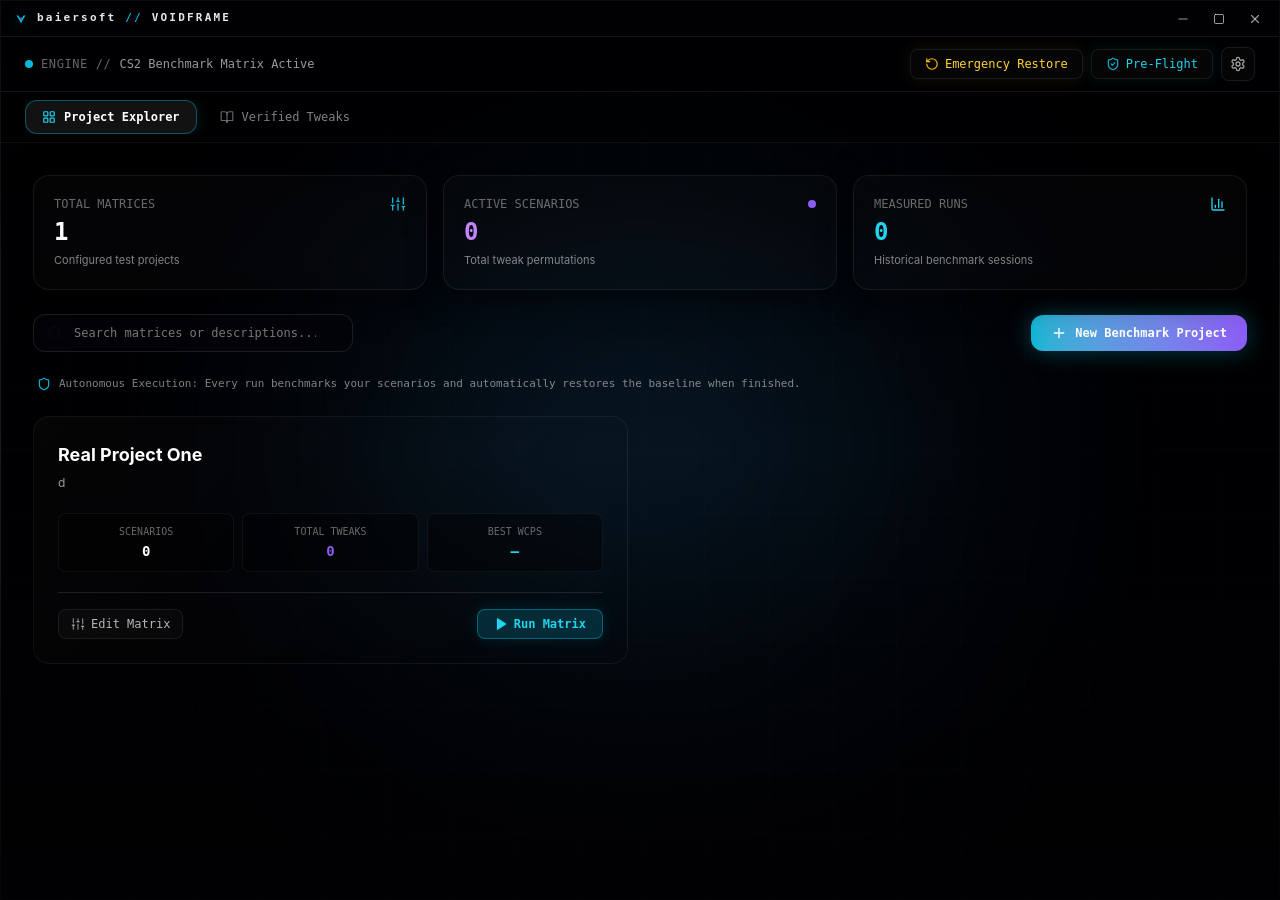
Test case: App run-lifecycle state survives LiveMonitor being unmounted (tab switch) › processes a RunFailed delivered while LiveMonitor is unmounted: isRunInProgress unblocks immediately, and the reason is not lost -- it's shown when the user ret
Expected: the heading "Real Project One" is shown, [58,441,202,469]
Click the button "Run Matrix".
click(540, 624)  # box [477,608,603,638]
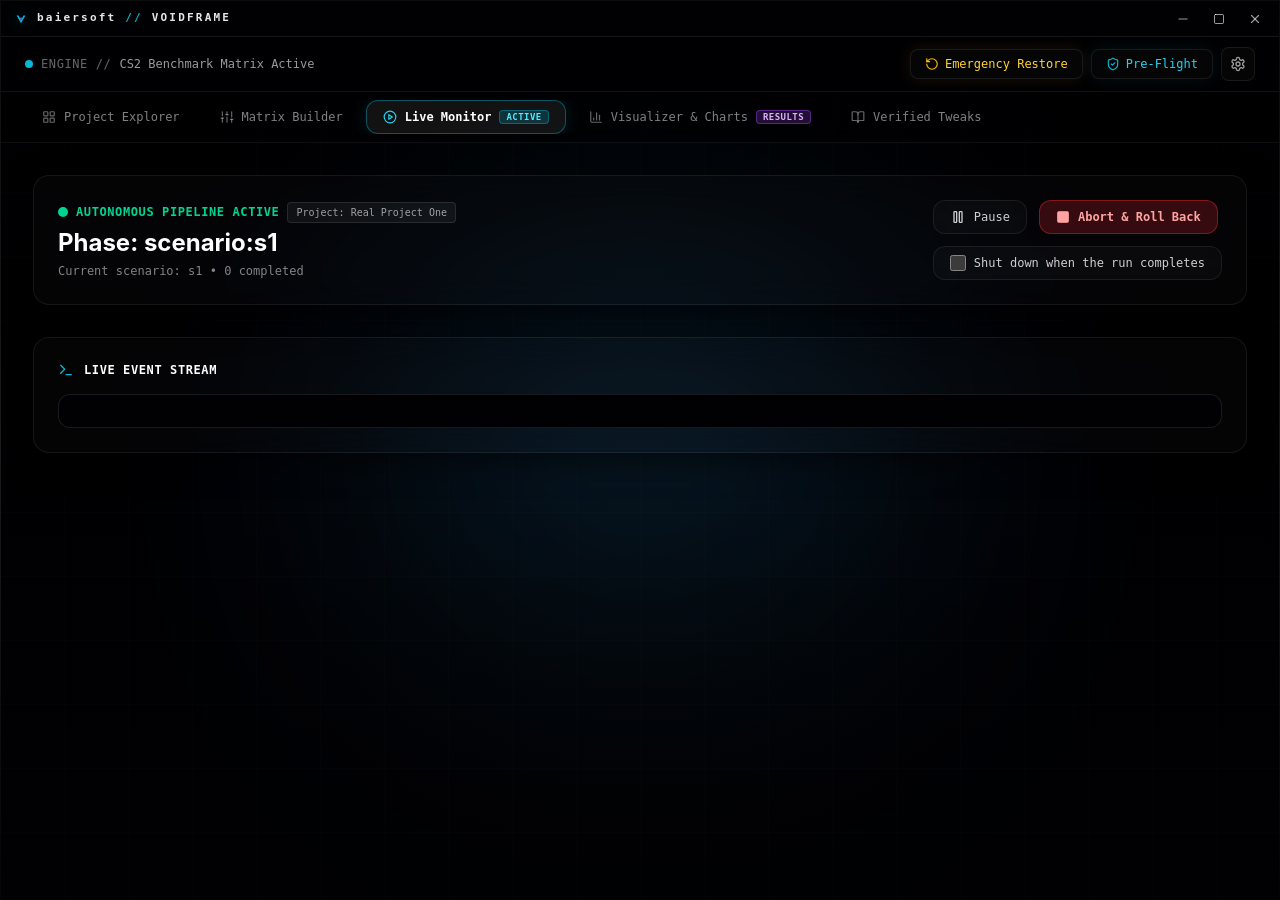
Now the text "ACTIVE" is shown, box [500,110,549,124]
Click the button "Project Explorer".
click(111, 117)  # box [25,100,197,134]
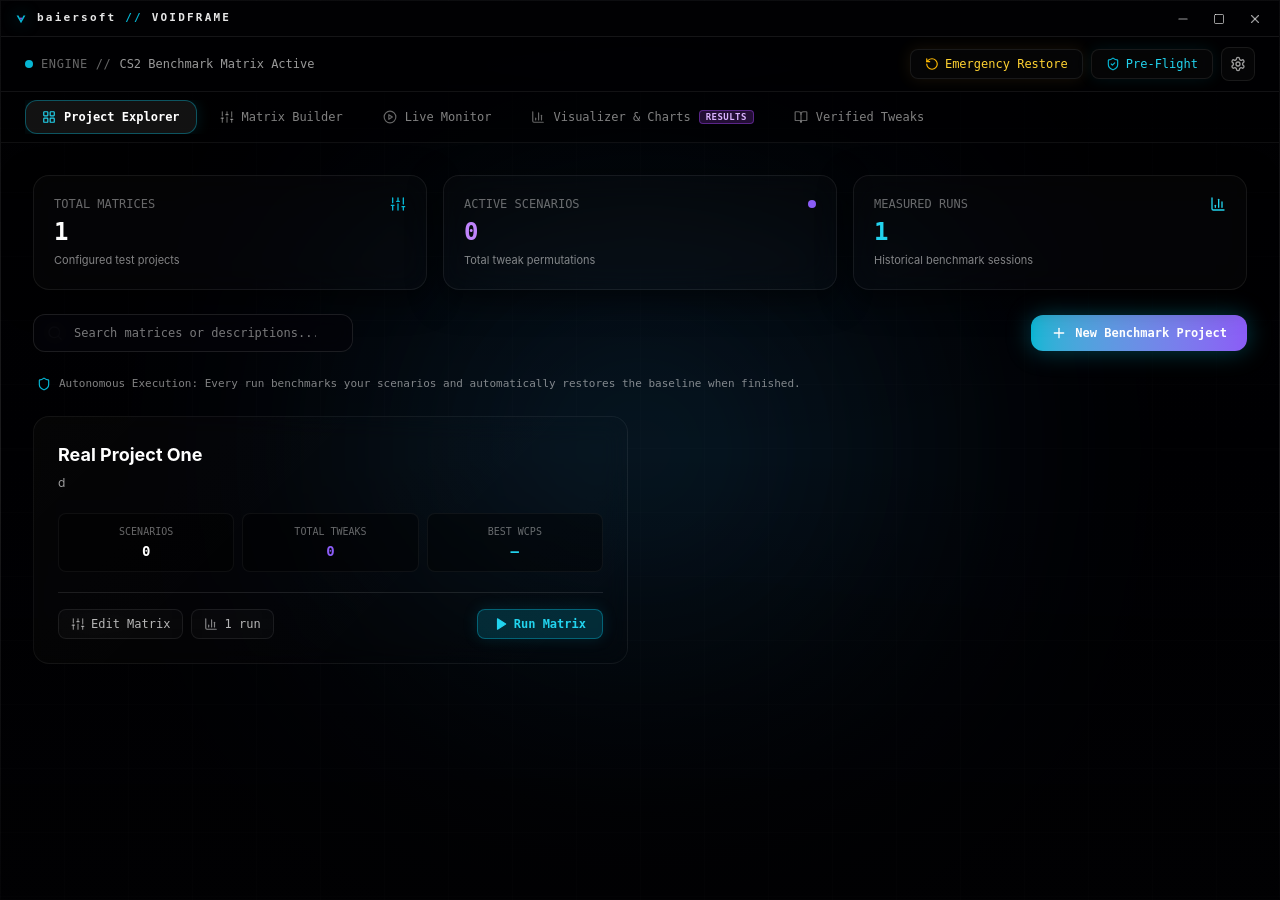
Click the button "Live Monitor".
click(437, 117)  # box [366,100,508,134]
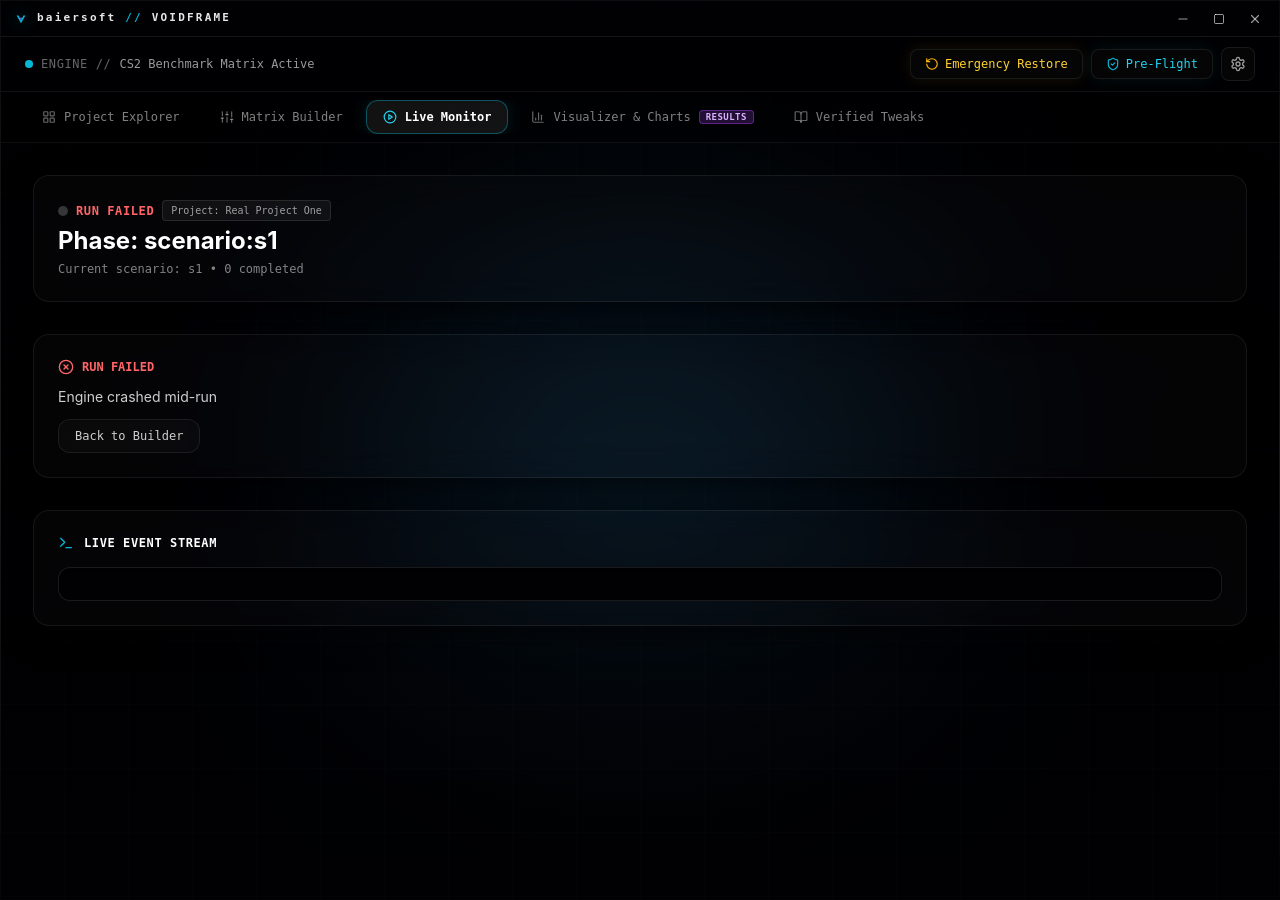
Now the text "Run Failed" is shown, box [76,202,154,218]
Now the text "Engine crashed mid-run" is shown, box [58,388,217,405]
